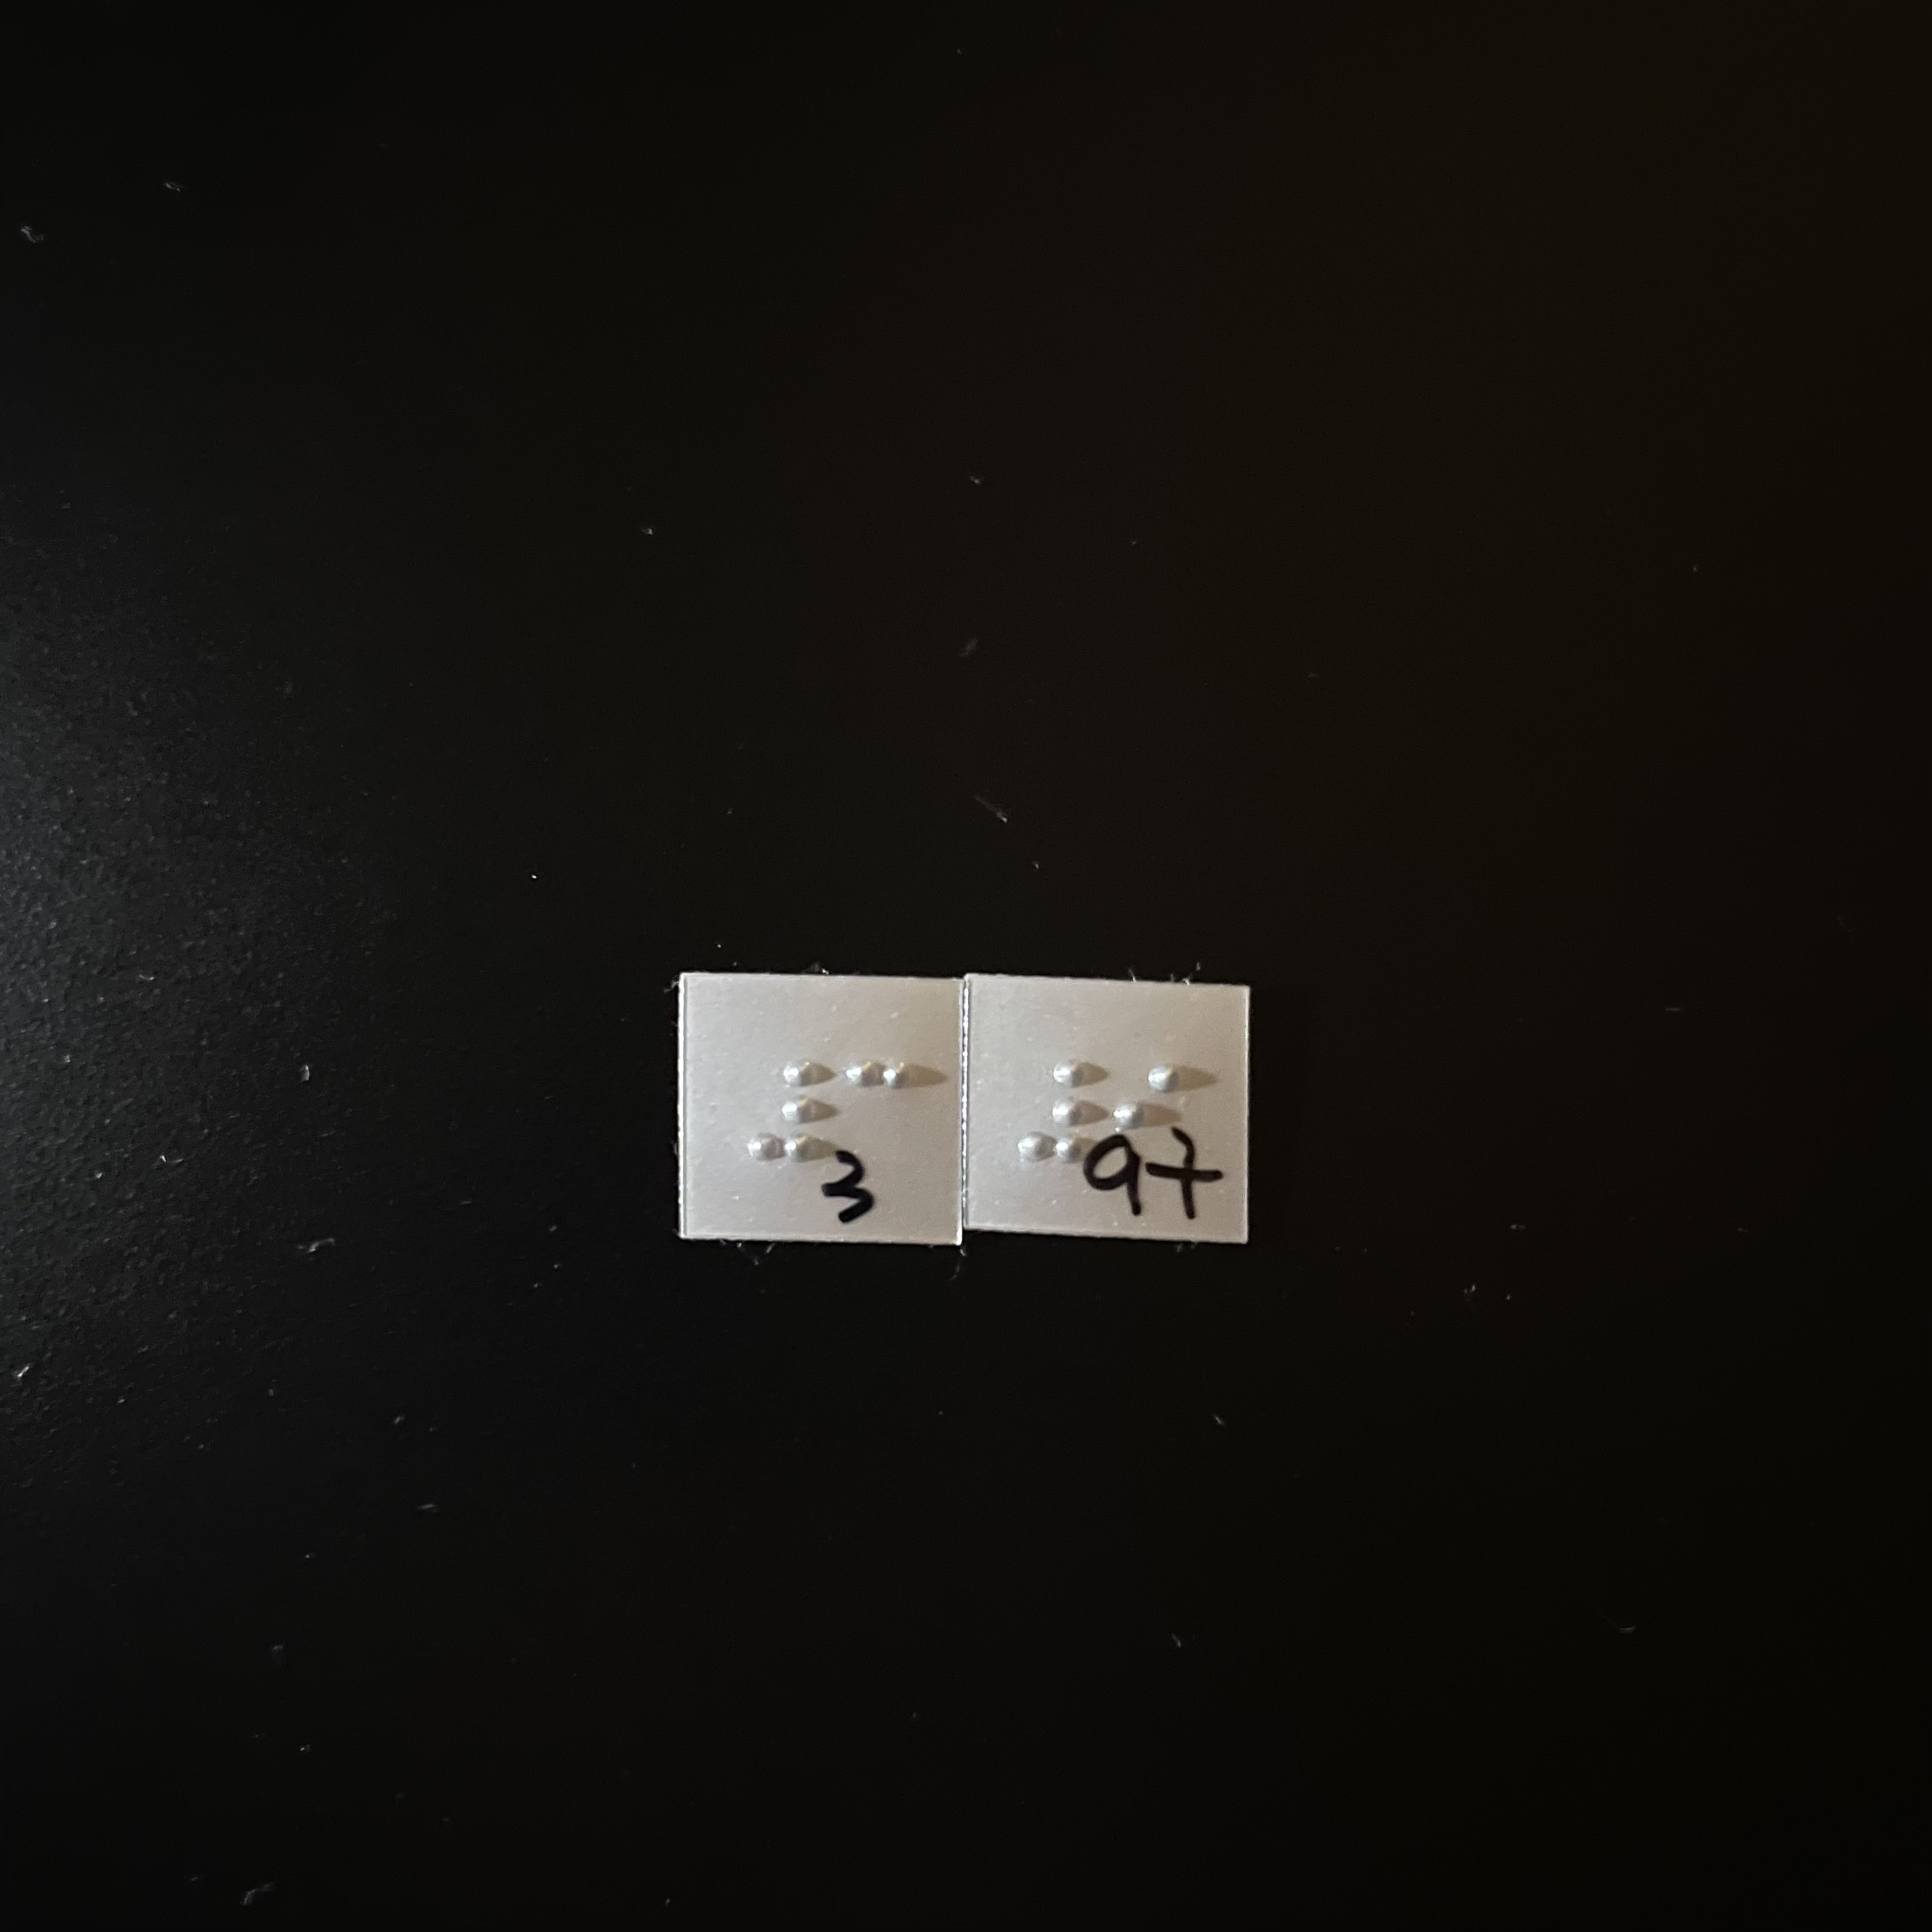#: (1008, 1057, 1102, 1174), (743, 1057, 839, 1170)
c: (844, 1057, 921, 1170)
i: (1108, 1064, 1197, 1181)
